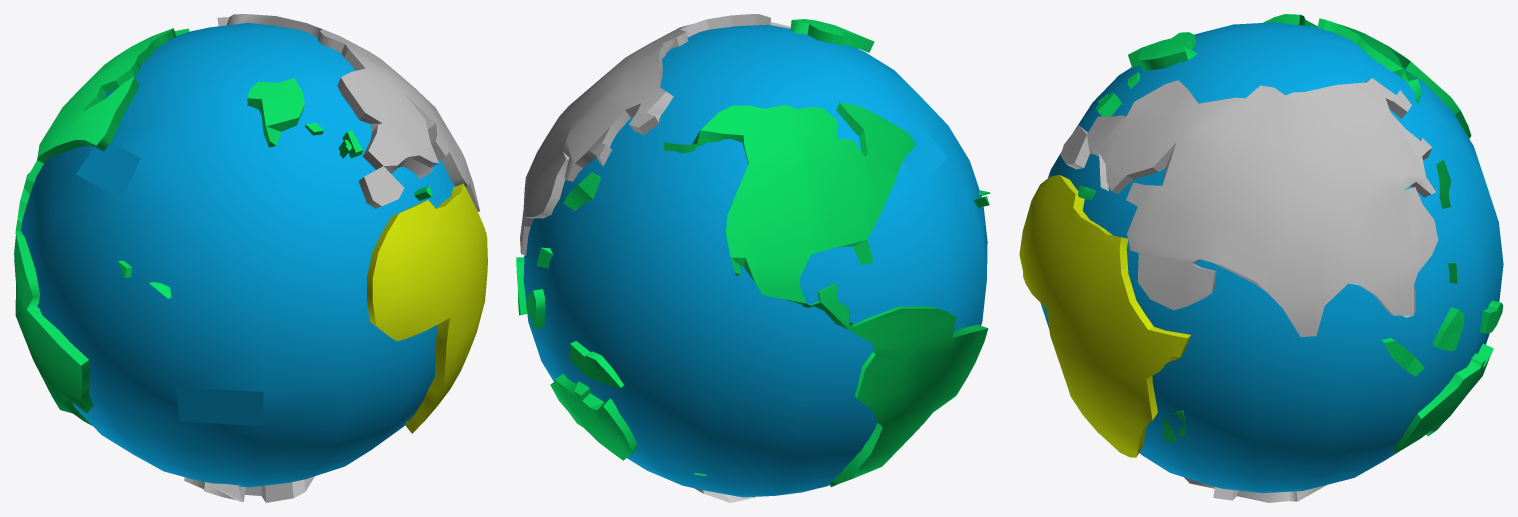
The model's file is earth.fbx.
3 renders of one model, left to right at view 1: azimuth 30°, elevation 25°; view 2: azimuth 150°, elevation 25°; view 3: azimuth 270°, elevation 25°, orthographic.
Visible parts, largest first — view 1: earthmesh:polySurface68; view 2: earthmesh:polySurface68; view 3: earthmesh:polySurface68.
Part boxes in pixels (x1,y1,x2,y2): earthmesh:polySurface68: (14,14,487,502); earthmesh:polySurface68: (516,14,990,502); earthmesh:polySurface68: (1019,14,1503,502).
Size of the model in its own units: 2.14 by 2.14 by 2.15.
